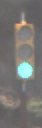Green: (13, 18, 39, 90)
